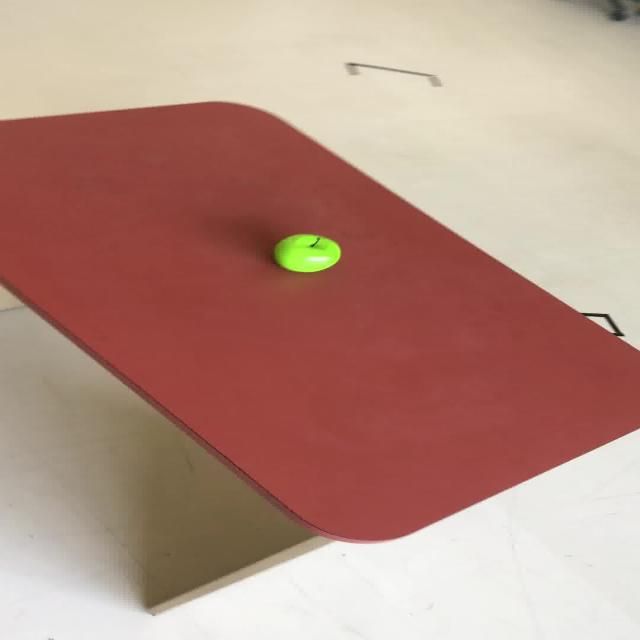apple: (272, 233, 341, 272)
